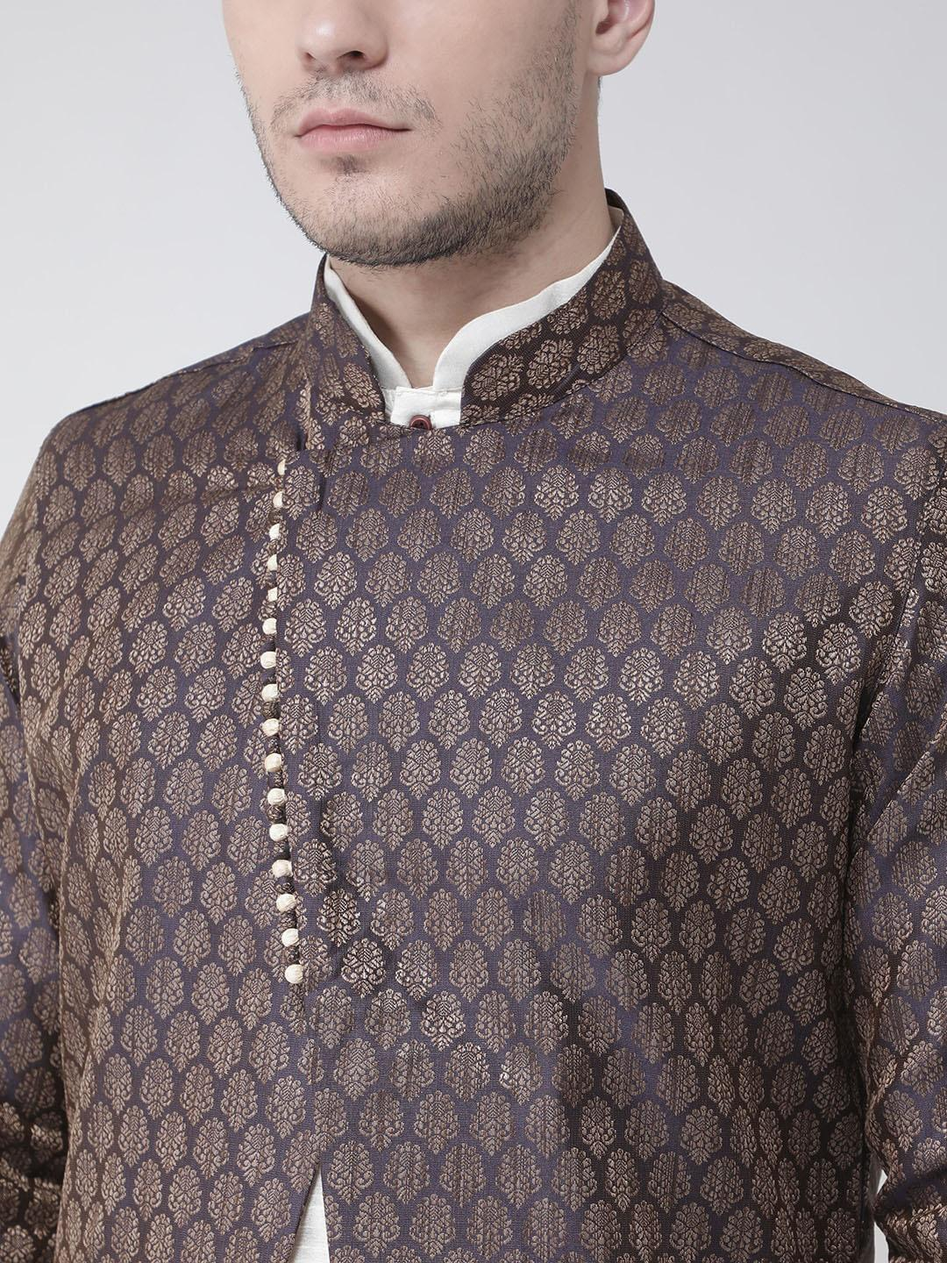Design Sherwani: (2, 187, 946, 1259)
